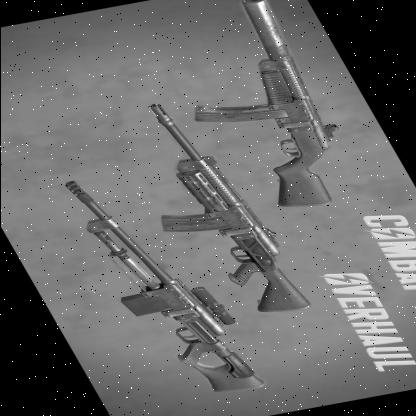rifle: (49, 165, 273, 411), (146, 0, 382, 215), (125, 96, 318, 325)
